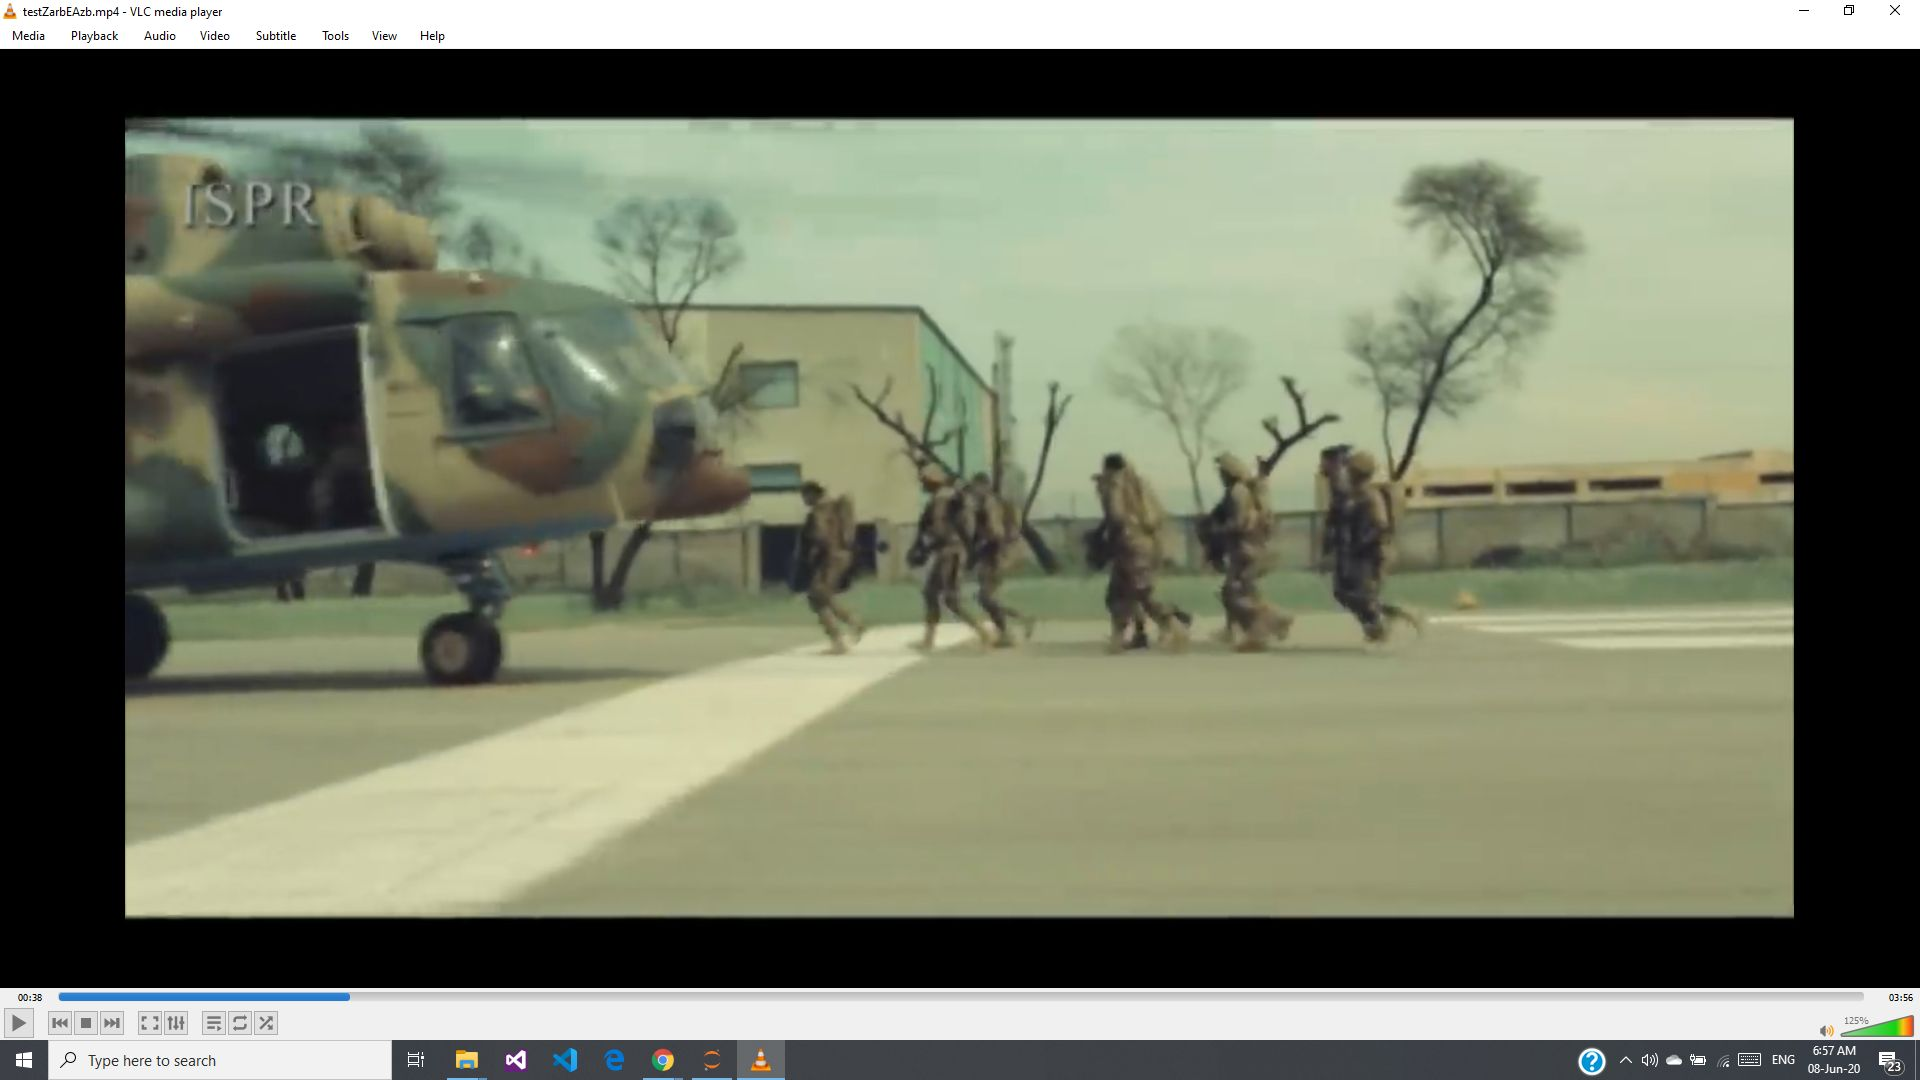uniform: (1313, 431, 1422, 674), (1095, 426, 1180, 684), (1199, 444, 1295, 669), (775, 458, 878, 666), (961, 464, 1043, 676), (903, 436, 976, 658)
